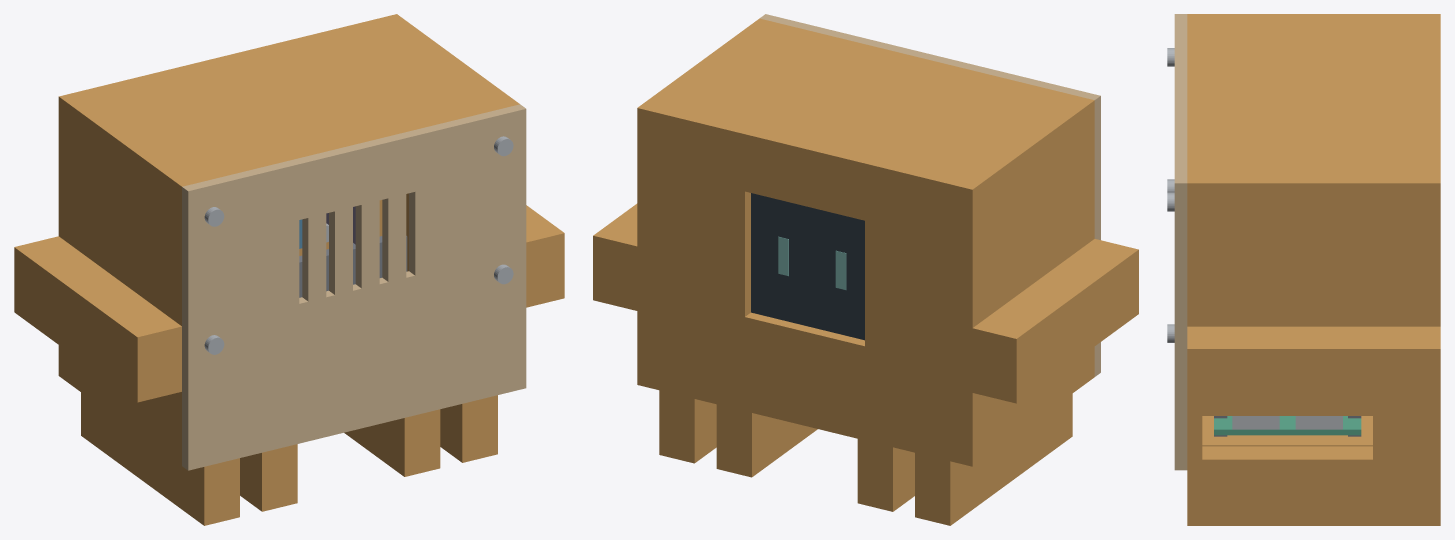
The model's file is agentpet_assembly.glb.
3 renders of one model, left to right at view 1: azimuth 30°, elevation 25°; view 2: azimuth 150°, elevation 25°; view 3: azimuth 270°, elevation 25°, orthographic. The views are drawn at different scales.
Parts seen in each view (by area): view 1: front, back, board_leads; view 2: front, screen_face, back; view 3: front, back, board_pcb, board_usb.
Part boxes in pixels (x1,y1,x2,y2): front: (14, 14, 564, 525); back: (182, 104, 526, 470); board_leads: (299, 236, 407, 297); front: (593, 18, 1138, 525); screen_face: (751, 193, 864, 339); back: (760, 14, 1100, 376); front: (1187, 14, 1440, 525); back: (1174, 14, 1187, 470); board_pcb: (1214, 416, 1361, 435); board_usb: (1232, 416, 1342, 429).
Size of the model in its own units: 96 by 74 by 51.8.
